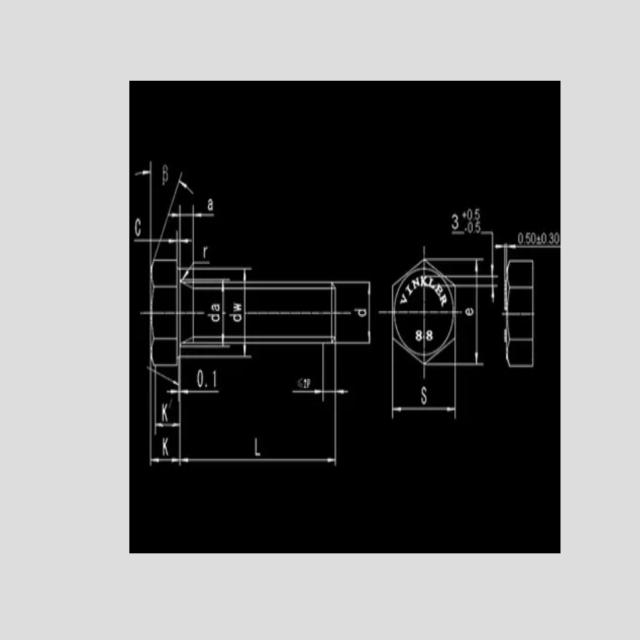marking_line: (182, 455, 333, 466), (179, 176, 199, 199), (395, 406, 454, 413), (151, 456, 181, 465), (291, 389, 321, 396), (154, 420, 181, 427), (134, 167, 150, 177), (336, 388, 352, 397)
numeric: (453, 204, 481, 237), (513, 229, 561, 245)
